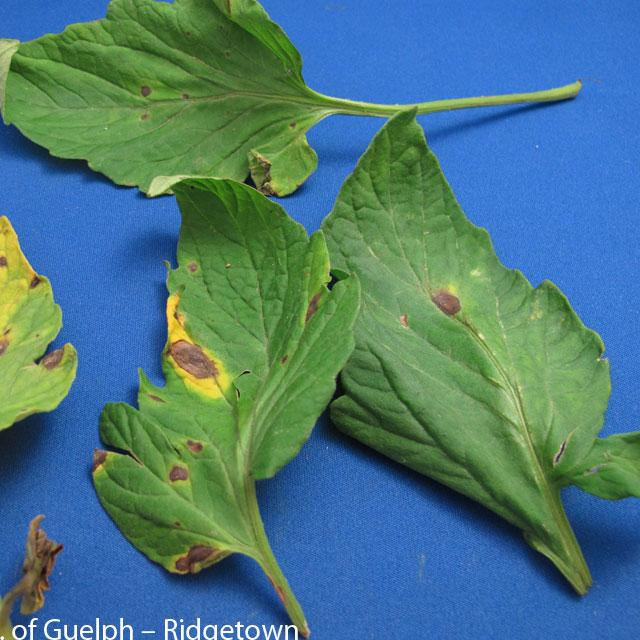Tomato Early blight leaf: (324, 105, 640, 624), (89, 174, 350, 596), (0, 0, 353, 209), (0, 183, 70, 581)
